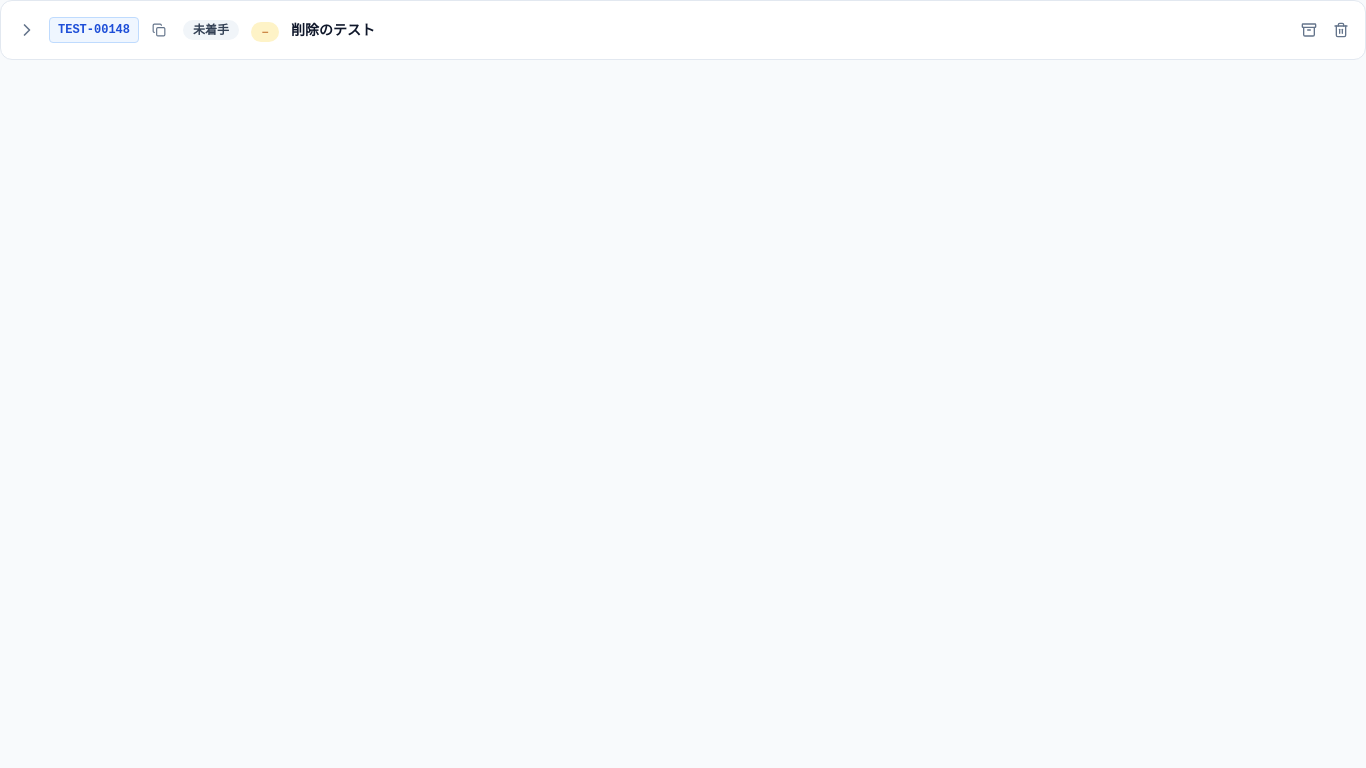
Test: TicketItem ticket deletion › puts focus back on the delete button when the delete request fails
The image size is (1366, 768).
Step 1. Click the button named "チケットを削除: TEST-00148 削除のテスト" → (1341, 30), box 1329,18 -> 1353,42
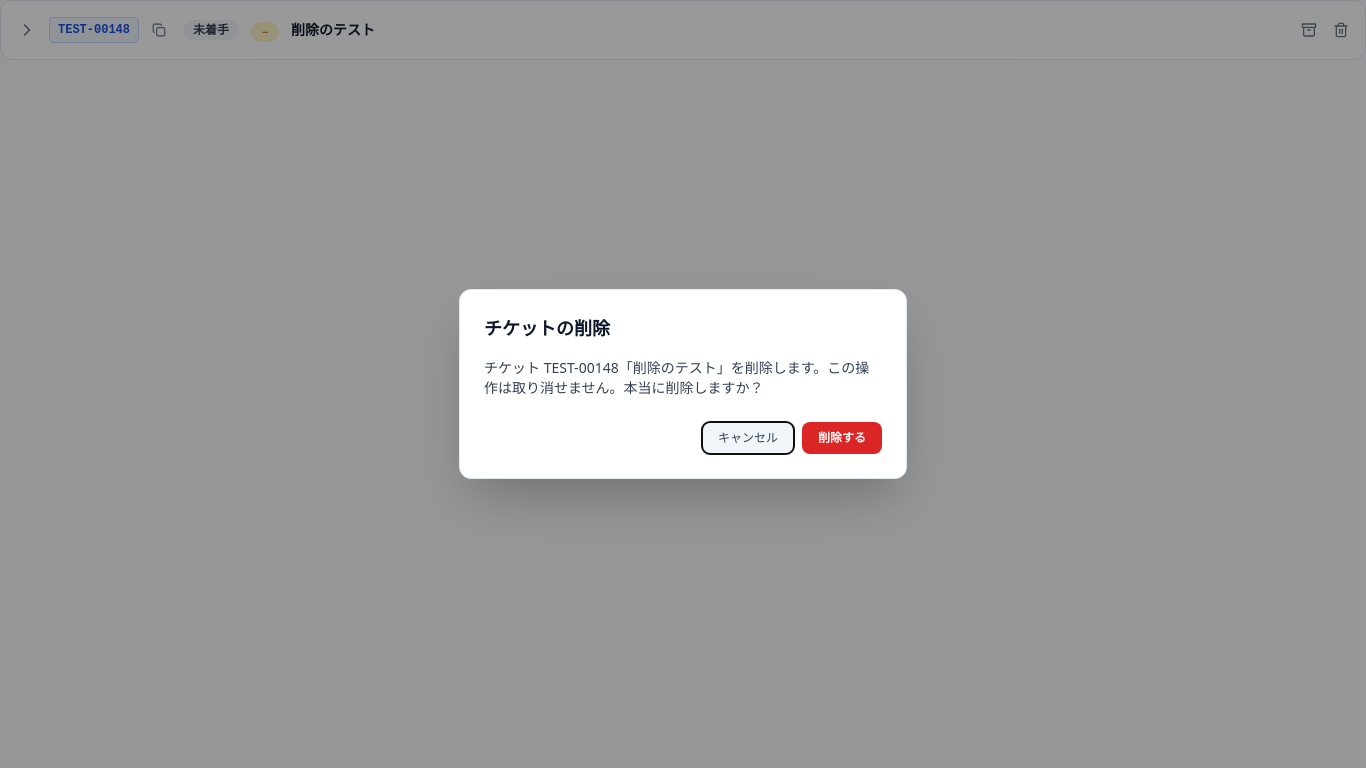
Step 2. Click the button with test id "ticket-delete-confirm-confirm" → (842, 438), box 802,422 -> 882,454
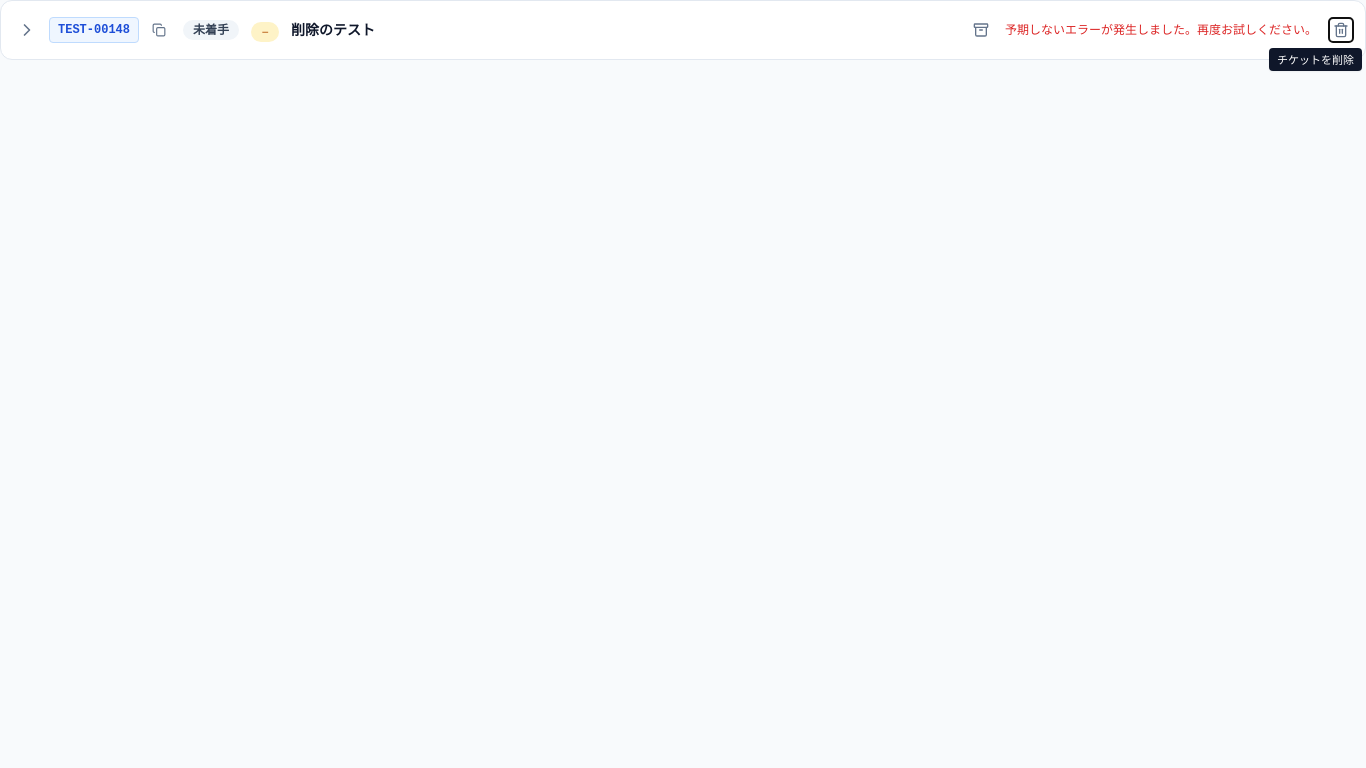
Expected: the text "予期しないエラーが発生しました。再度お試しください。" is shown, 1005,22 -> 1317,38
